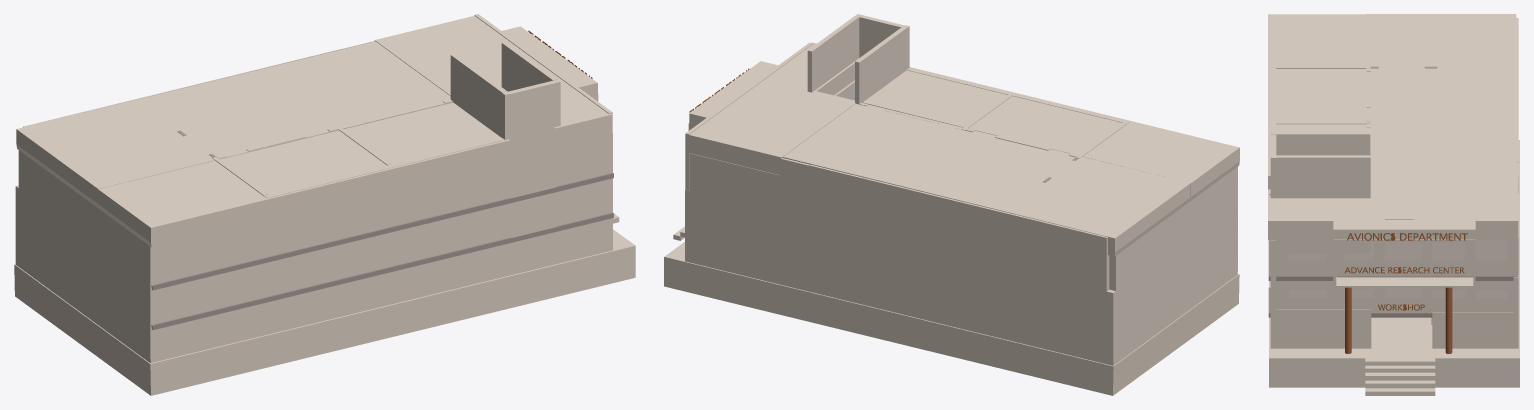
Rendered from Avionics_Building (1).fbx.
3 views of the same model, side by side, from view 1: azimuth 30°, elevation 25°; view 2: azimuth 150°, elevation 25°; view 3: azimuth 270°, elevation 25° (orthographic). The views are drawn at different scales.
Visible parts, largest first — view 1: polySurface258; view 2: polySurface258; view 3: polySurface258.
Part boxes in pixels (left/top/right/bottom): polySurface258: left=14, top=14, right=635, bottom=395; polySurface258: left=664, top=14, right=1239, bottom=395; polySurface258: left=1268, top=14, right=1519, bottom=395.
Bounding box in the file's own units: 68.16 × 26.76 × 30.93.
